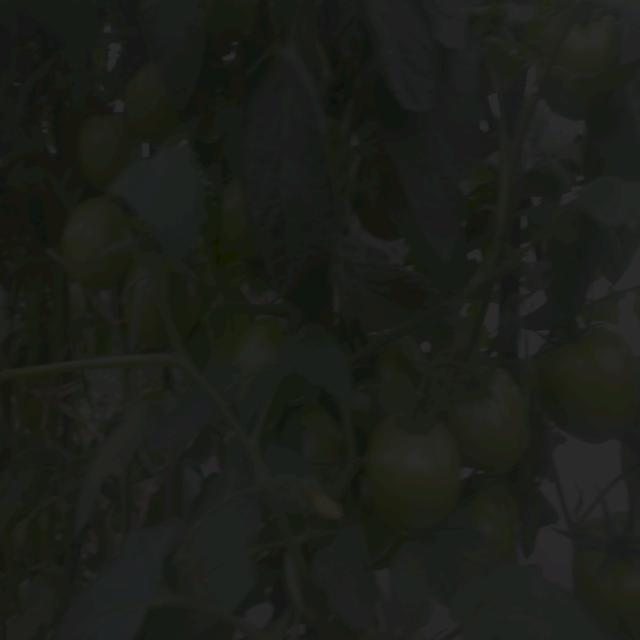tomato: (368, 414, 465, 527), (539, 337, 638, 438), (575, 518, 640, 640), (452, 361, 526, 468), (553, 16, 629, 116), (63, 205, 135, 285), (295, 399, 353, 473), (352, 168, 407, 239), (223, 307, 282, 368), (79, 118, 136, 178), (476, 487, 521, 561), (216, 185, 254, 263), (120, 77, 166, 137)
